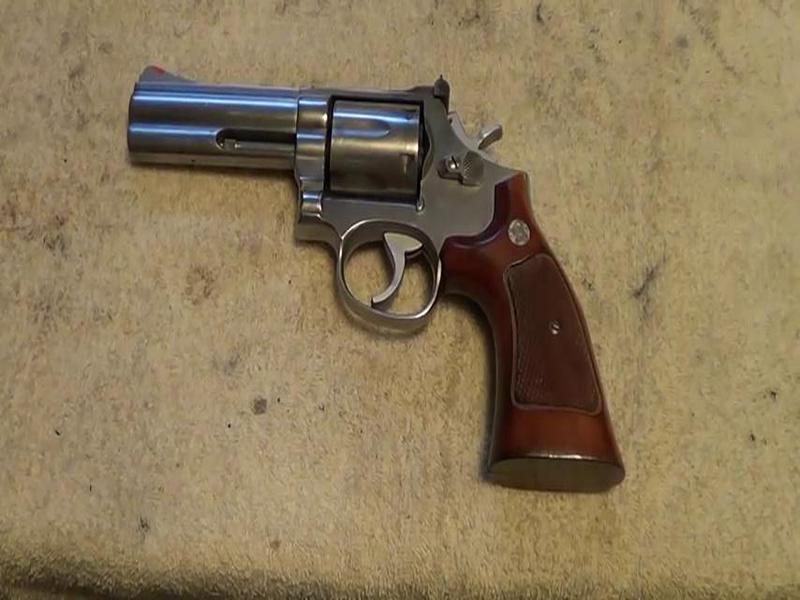Revolver: (107, 56, 600, 473)
